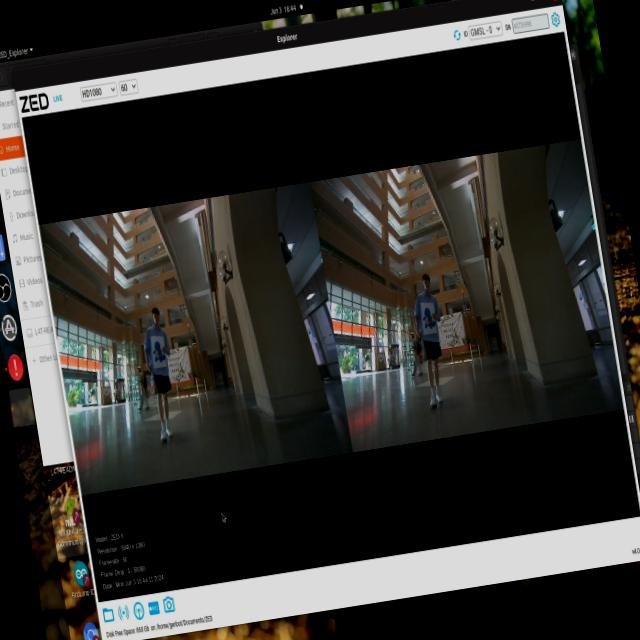blue: (152, 337, 177, 373), (421, 309, 434, 336)
